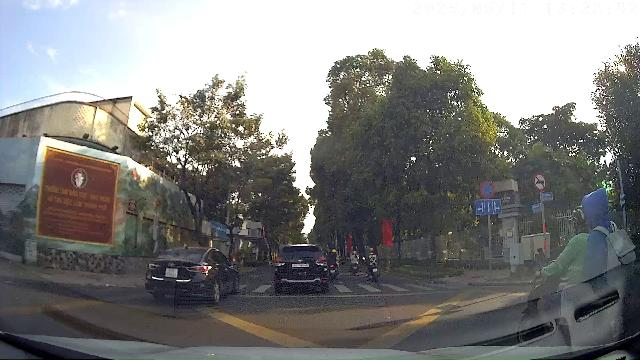130-cam-dung-va-do-xe: (479, 181, 495, 199)
